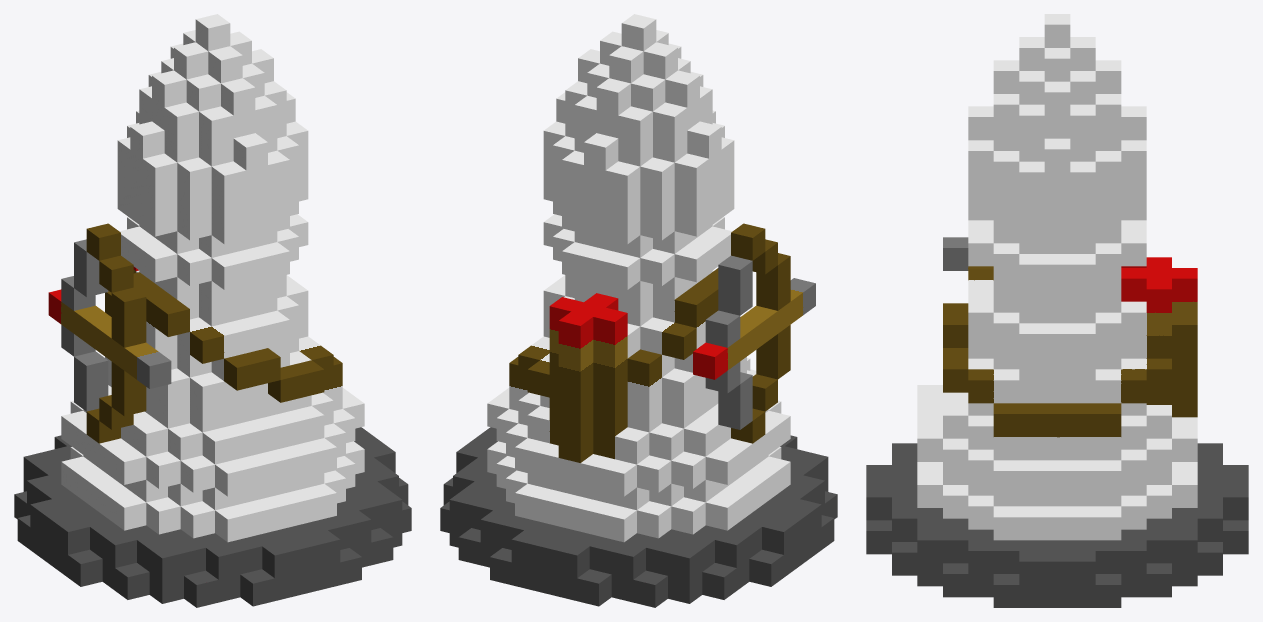
The model's file is Unit_Archer.fbx.
The picture shows the model from 3 angles, left to right: view 1: azimuth 30°, elevation 25°; view 2: azimuth 150°, elevation 25°; view 3: azimuth 270°, elevation 25°; orthographic projection.
Parts seen in each view (by area): view 1: Unit_Archer; view 2: Unit_Archer; view 3: Unit_Archer.
Part boxes in pixels (x1,y1,x2,y2): Unit_Archer: [14, 14, 411, 607]; Unit_Archer: [440, 14, 837, 607]; Unit_Archer: [866, 14, 1248, 607].
Size of the model in its own units: 93.75 by 138 by 93.75.
Materials: 1 (1 with a texture image).
